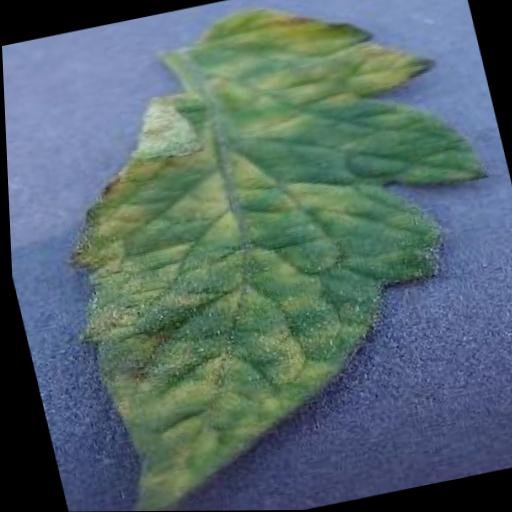Leaf Mold: (15, 0, 512, 512)
